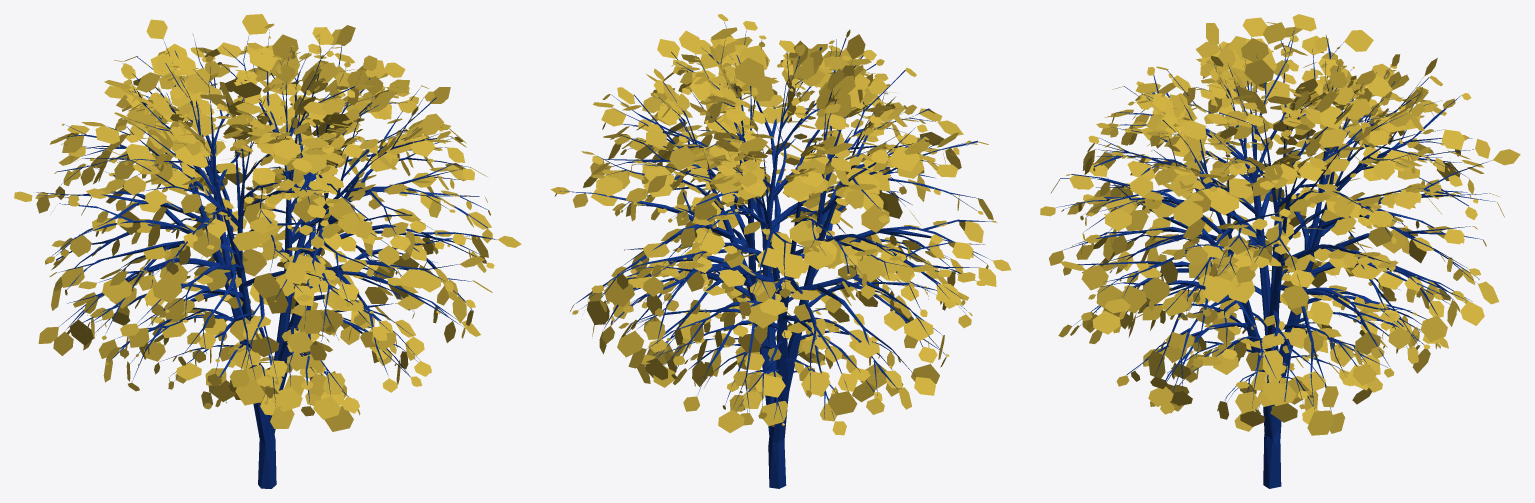
The model's file is YellowandBlueTree.fbx.
The picture shows the model from 3 angles, left to right: view 1: azimuth 30°, elevation 25°; view 2: azimuth 150°, elevation 25°; view 3: azimuth 270°, elevation 25°; orthographic projection.
Parts seen in each view (by area): view 1: Blue and pink tree; view 2: Blue and pink tree; view 3: Blue and pink tree.
Boxes of the visible parts, bbox=[...] form: Blue and pink tree: bbox=[14, 14, 521, 488]; Blue and pink tree: bbox=[550, 14, 1011, 488]; Blue and pink tree: bbox=[1040, 14, 1520, 488].
Bounding box in the file's own units: 1016 × 1077 × 1071.
